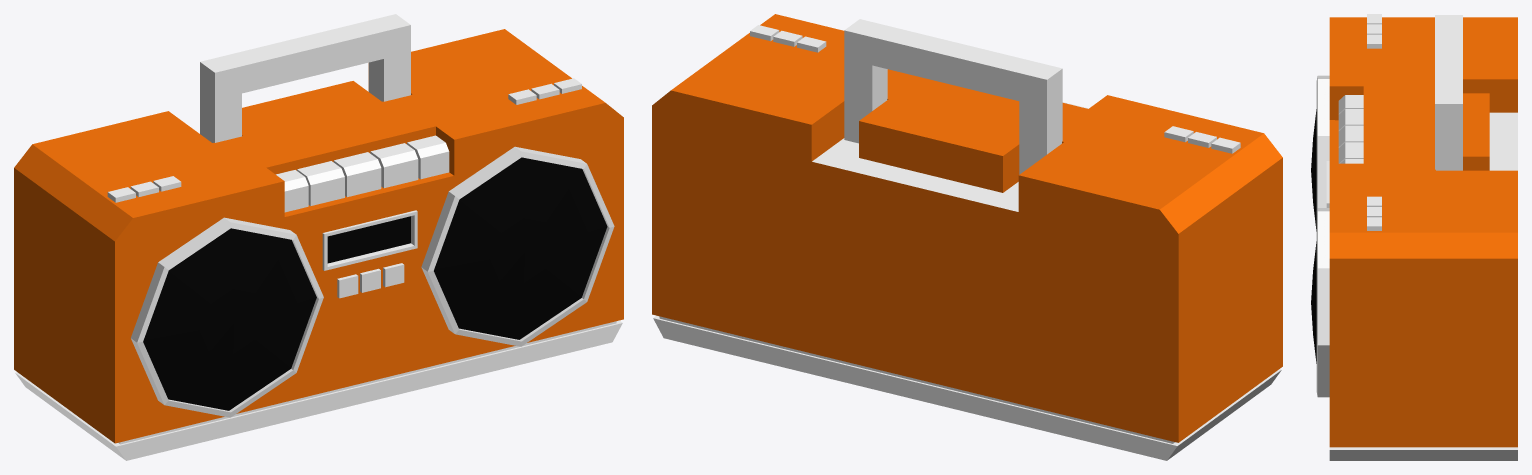
Rendered from animal_company_-_boombox.glb.
3 renders of one model, left to right at view 1: azimuth 30°, elevation 25°; view 2: azimuth 150°, elevation 25°; view 3: azimuth 270°, elevation 25°, orthographic. The views are drawn at different scales.
Parts seen in each view (by area): view 1: BoomBox_01_3; view 2: BoomBox_01_3; view 3: BoomBox_01_3.
Boxes of the visible parts, x1=… form: BoomBox_01_3: x1=14, y1=14, x2=623, y2=460; BoomBox_01_3: x1=652, y1=14, x2=1282, y2=460; BoomBox_01_3: x1=1311, y1=14, x2=1517, y2=460.
Size of the model in its own units: 0.4975 by 0.2909 by 0.1877.
